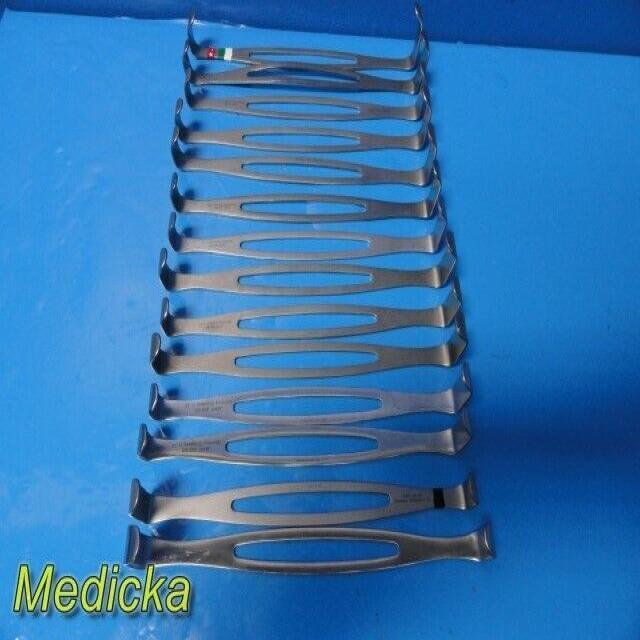Army Navy Retractor: (114, 516, 507, 576), (122, 466, 486, 530), (126, 412, 480, 472), (142, 368, 476, 430), (154, 242, 464, 300), (164, 165, 448, 228), (162, 130, 444, 192), (144, 322, 474, 374), (161, 210, 453, 268), (172, 95, 435, 158), (182, 8, 432, 74), (160, 289, 468, 341), (184, 70, 434, 126), (180, 47, 430, 95)
